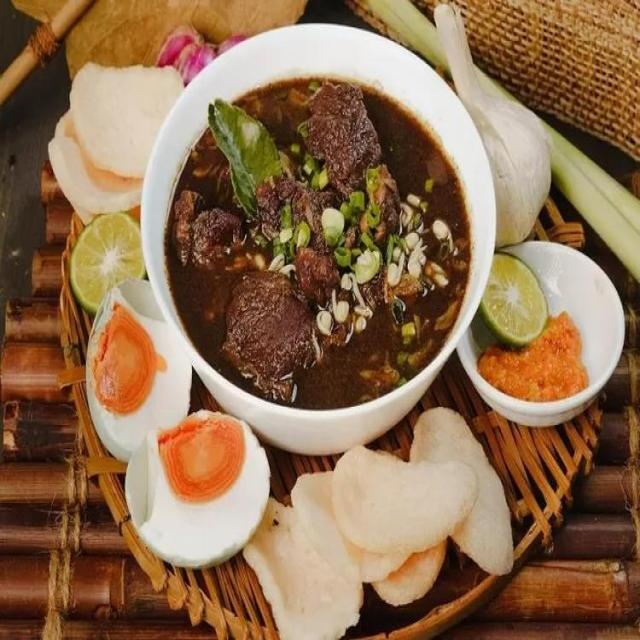Rawon: (172, 72, 460, 392)
